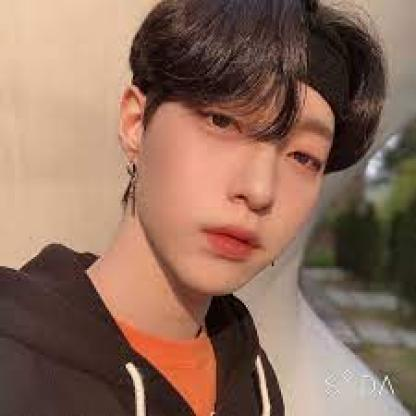person: (108, 0, 382, 296)
